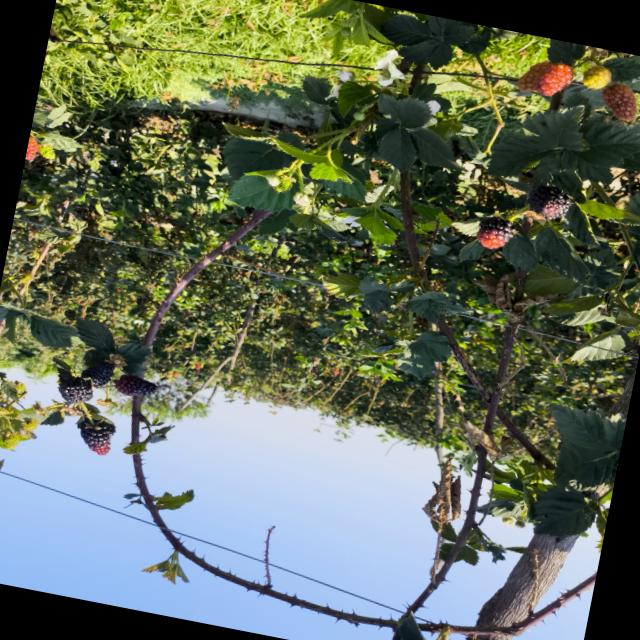maduro: (58, 376, 93, 403), (115, 375, 157, 396), (82, 362, 115, 386)
marron: (528, 186, 571, 219), (78, 419, 115, 455), (476, 218, 514, 249)
naranja: (517, 61, 573, 97), (602, 84, 637, 121)
verde: (582, 66, 611, 89)
